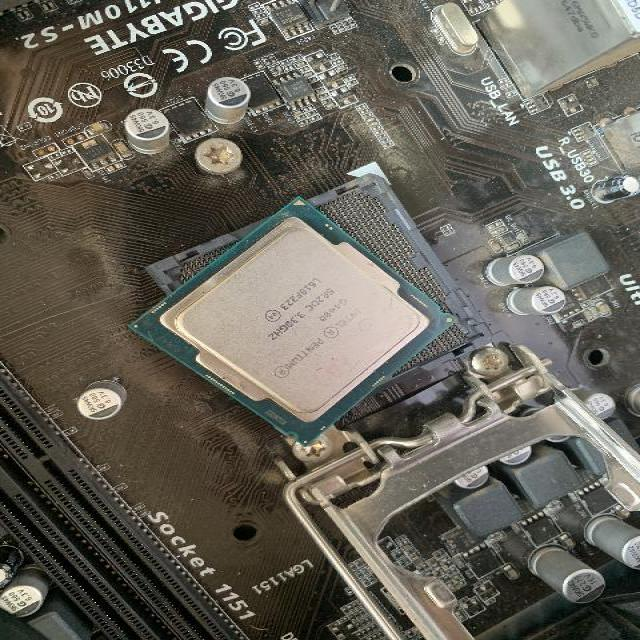CPU: (127, 196, 460, 445)
Mainboard: (0, 0, 640, 640)
